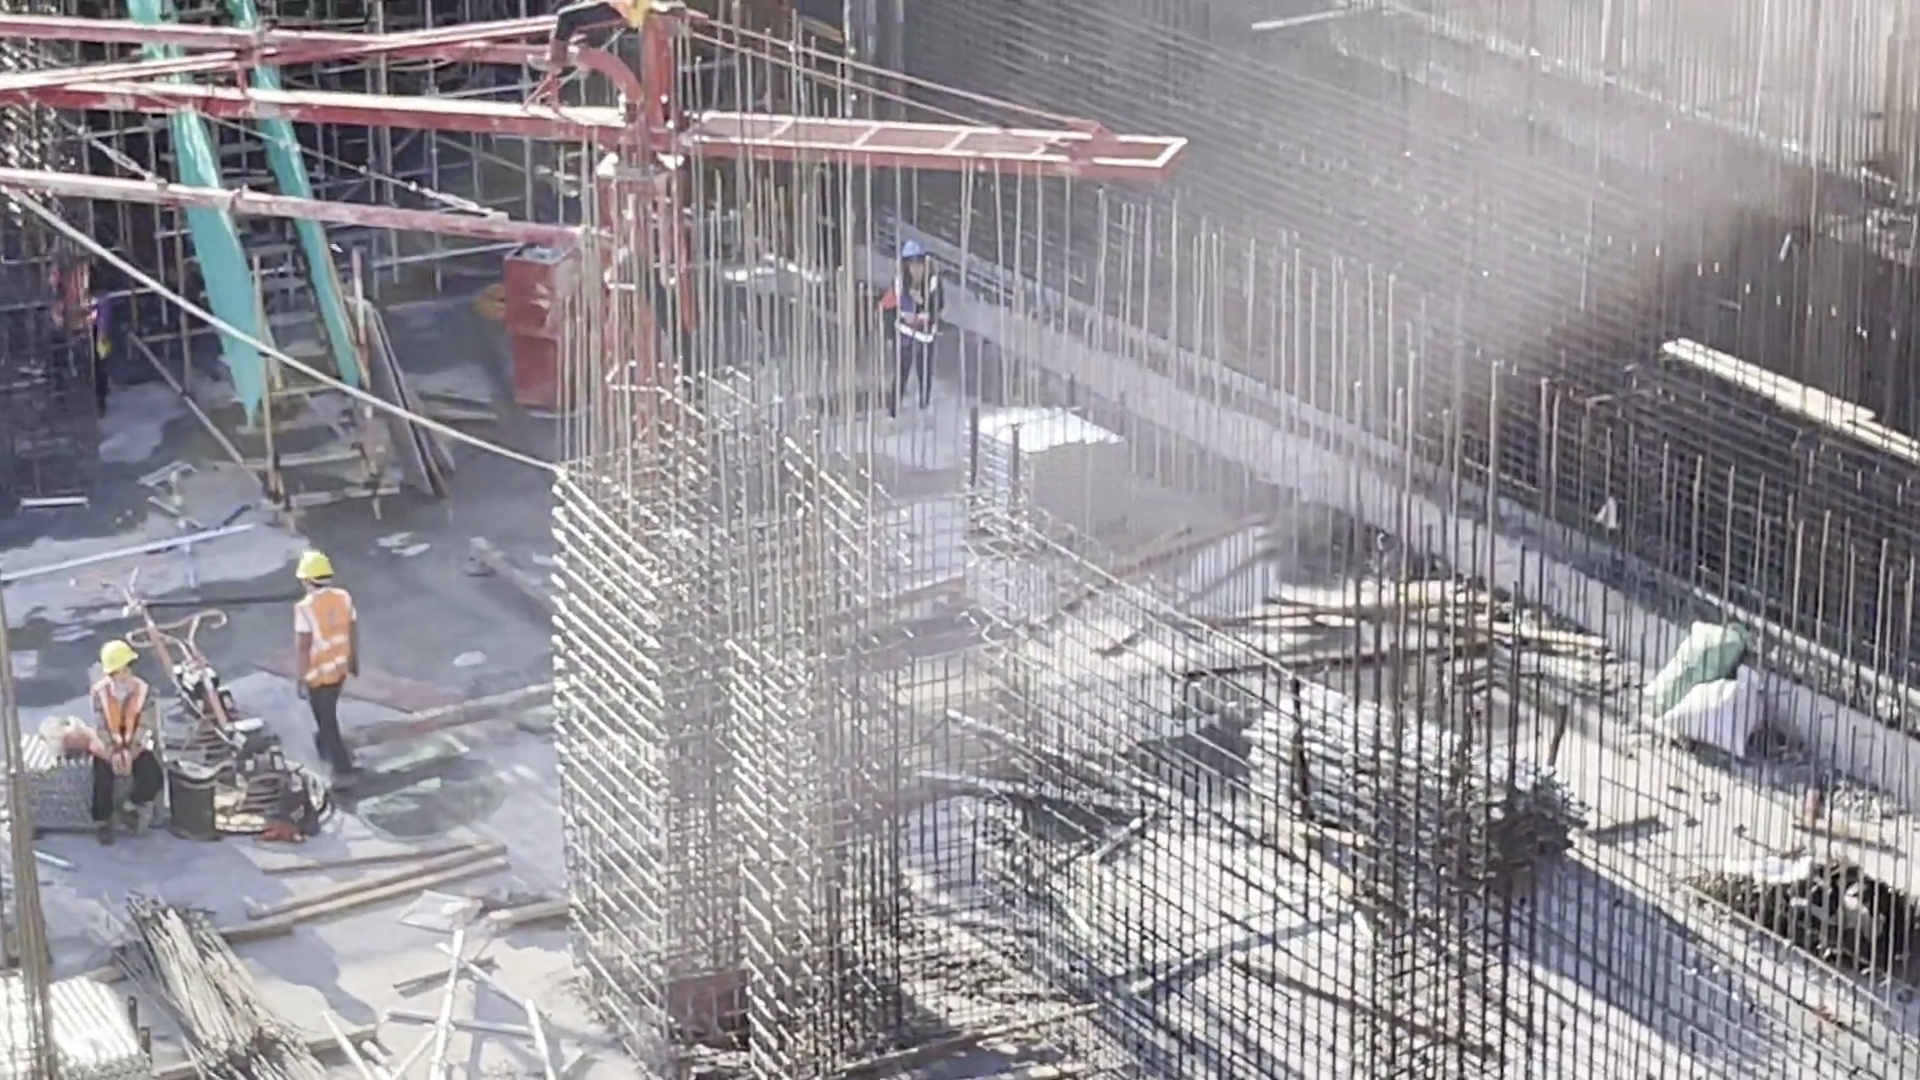helmet: (296, 557, 344, 584), (103, 644, 143, 676), (901, 234, 928, 265)
person: (81, 639, 173, 853), (289, 546, 359, 775), (874, 235, 945, 431), (517, 1, 680, 80), (40, 235, 119, 394)
rebar: (147, 911, 310, 1080)
scaffold: (1262, 700, 1585, 893), (975, 415, 1147, 552), (1, 936, 149, 1064), (25, 740, 135, 840)
vest: (97, 677, 150, 772), (303, 600, 353, 690), (888, 284, 946, 355), (53, 256, 94, 335)
